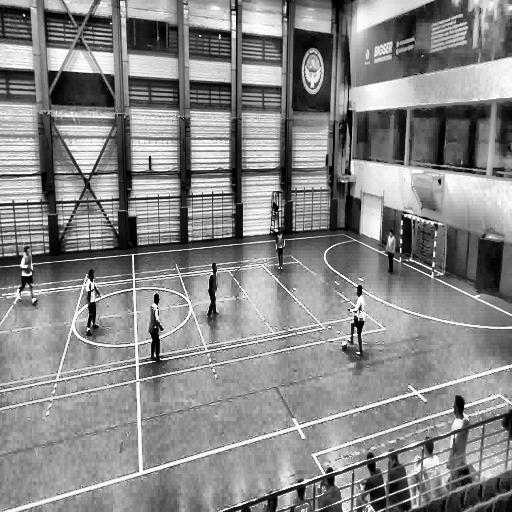ball: (342, 338, 347, 353)
player: (346, 286, 365, 358), (16, 245, 38, 304), (148, 293, 166, 363), (86, 268, 100, 335), (206, 261, 220, 319), (275, 227, 285, 272), (386, 228, 395, 274)
